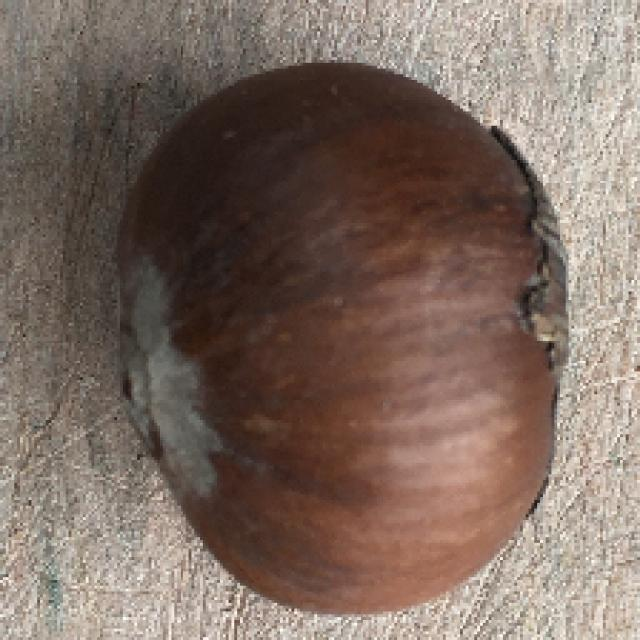damagedHazelnut: (101, 62, 569, 613)
